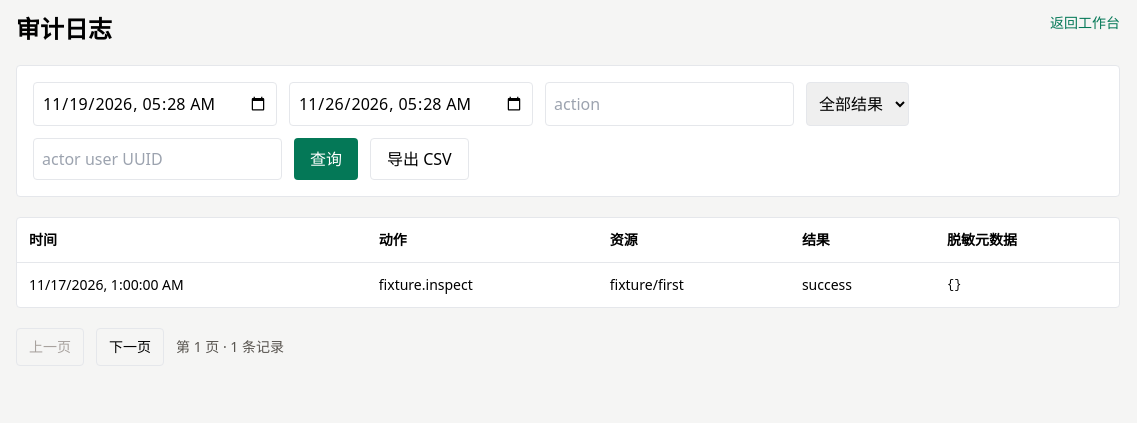
Test: keeps the last successful page and cursor available when navigation fails
Check: the text "fixture/first" is shown, box [598,262,790,307]
Click the button "下一页" at [130, 347], box [96,328,164,366]
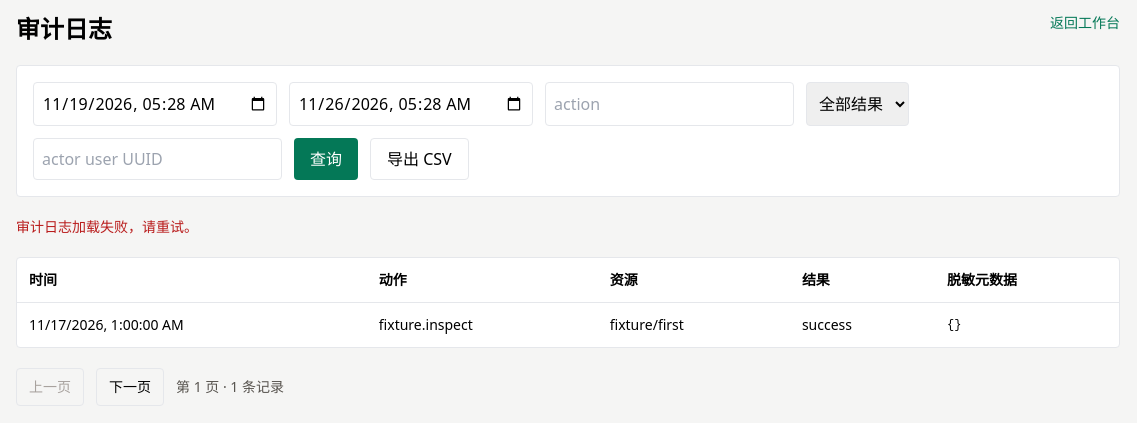
Check: the message "第 1 页 · 1 条记录" is shown, box [176,377,284,397]
Check: the message "审计日志加载失败，请重试。" is shown, box [16,217,198,236]
Click the button "下一页" at [130, 387], box [96,368,164,406]
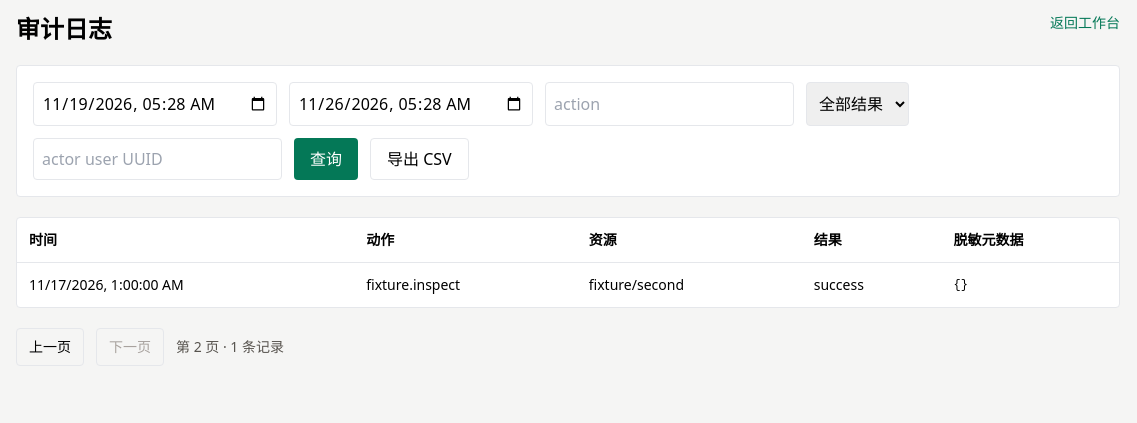
Check: the text "fixture/second" is shown, box [577,262,802,307]
Check: the message reads "第 2 页 · 1 条记录", box [176,337,284,356]
Check: the message "审计日志加载失败，请重试。" is gone
